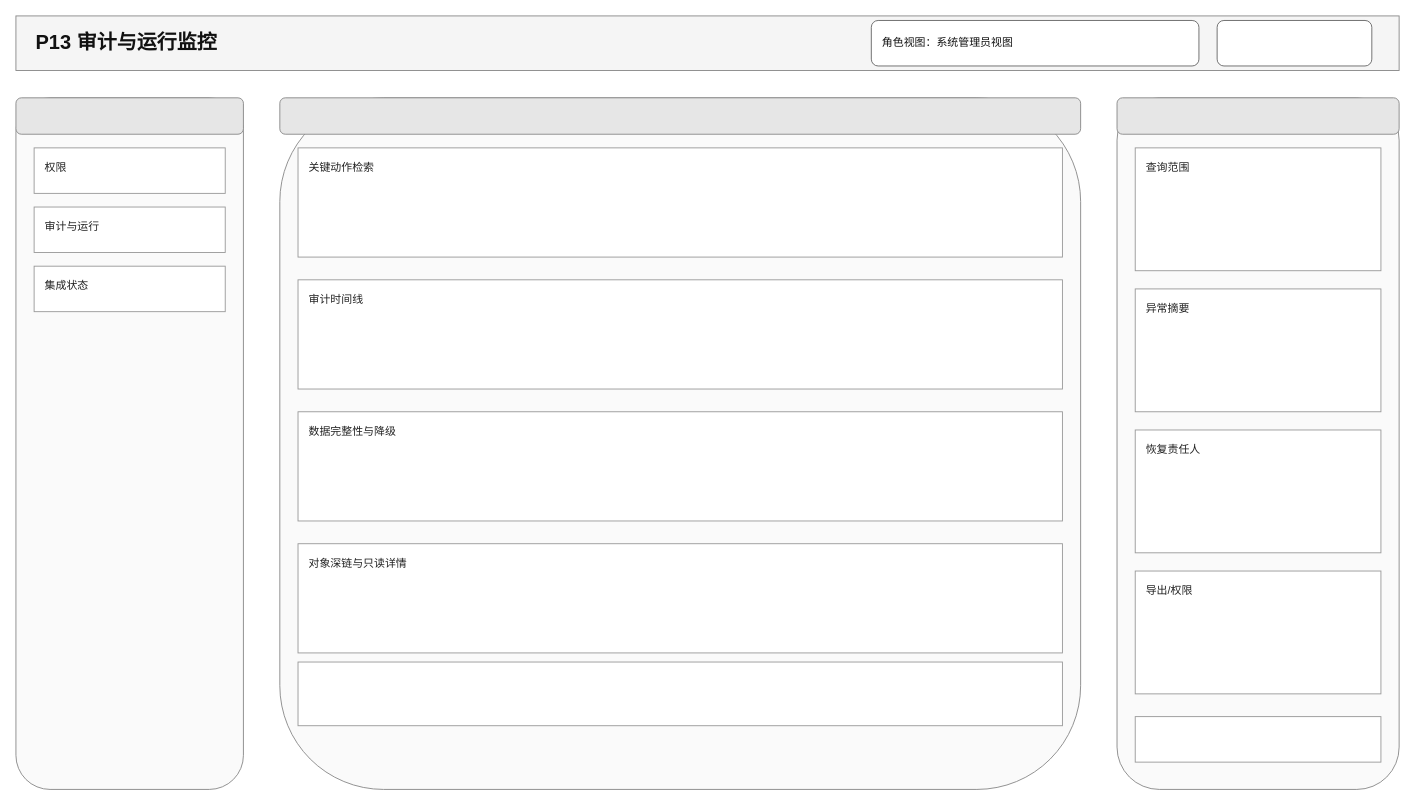
Some shapes in this 1415 by 805 pixel diagram are drawn without their labels. Each missing label, with the centre of its shape:
"一级导航" goes at (129,115).
"上下文与状态" goes at (1257,115).
"主工作区" goes at (680,115).
"低保真：仅信息分组与层级。 不使用品牌颜色、图标或精细视觉。" goes at (1257,739).
"返回 / 切角色" goes at (1294,43).
"页面内主操作条：当前唯一主操作 + 取消/返回 + 状态提示" goes at (679,693).
